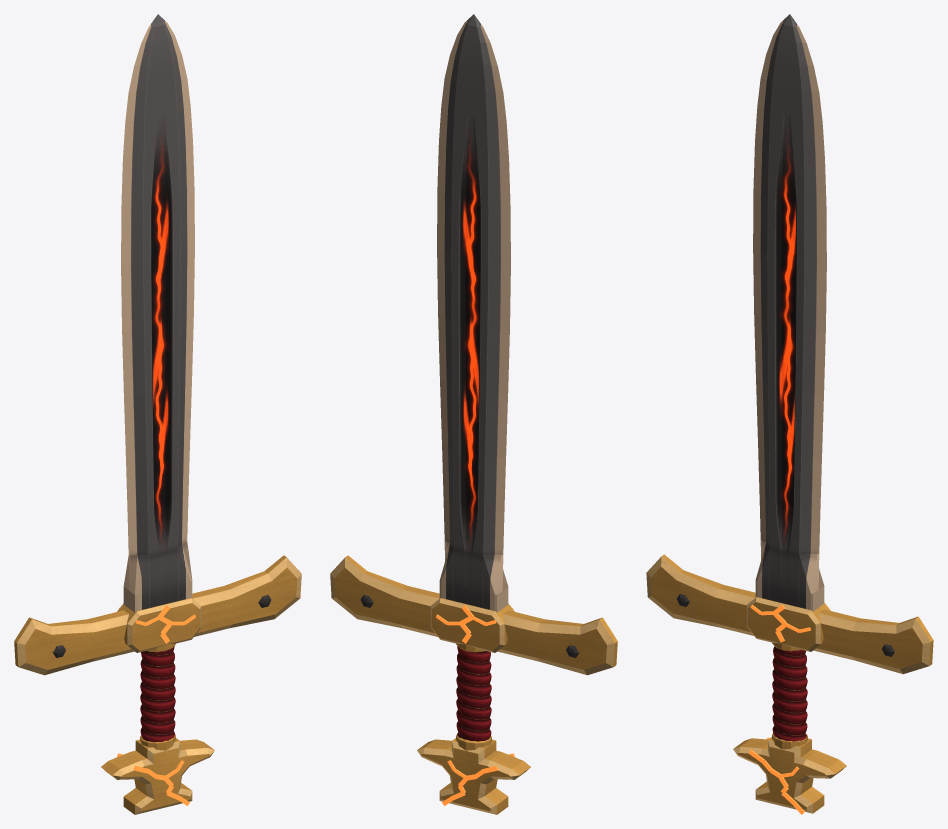
File: sword_askarra.glb
The picture shows the model from 3 angles, left to right: view 1: azimuth 30°, elevation 25°; view 2: azimuth 150°, elevation 25°; view 3: azimuth 330°, elevation 25°; orthographic projection.
Parts seen in each view (by area): view 1: Sword_LOD0; view 2: Sword_LOD0; view 3: Sword_LOD0.
Part boxes in pixels (left/top/right/bottom): Sword_LOD0: left=14, top=14, right=301, bottom=814; Sword_LOD0: left=330, top=14, right=617, bottom=814; Sword_LOD0: left=646, top=14, right=933, bottom=814.
Size of what is drawn, in the model's own units: 0.416 by 1.1 by 0.0456.
4 materials, 3 textured.
